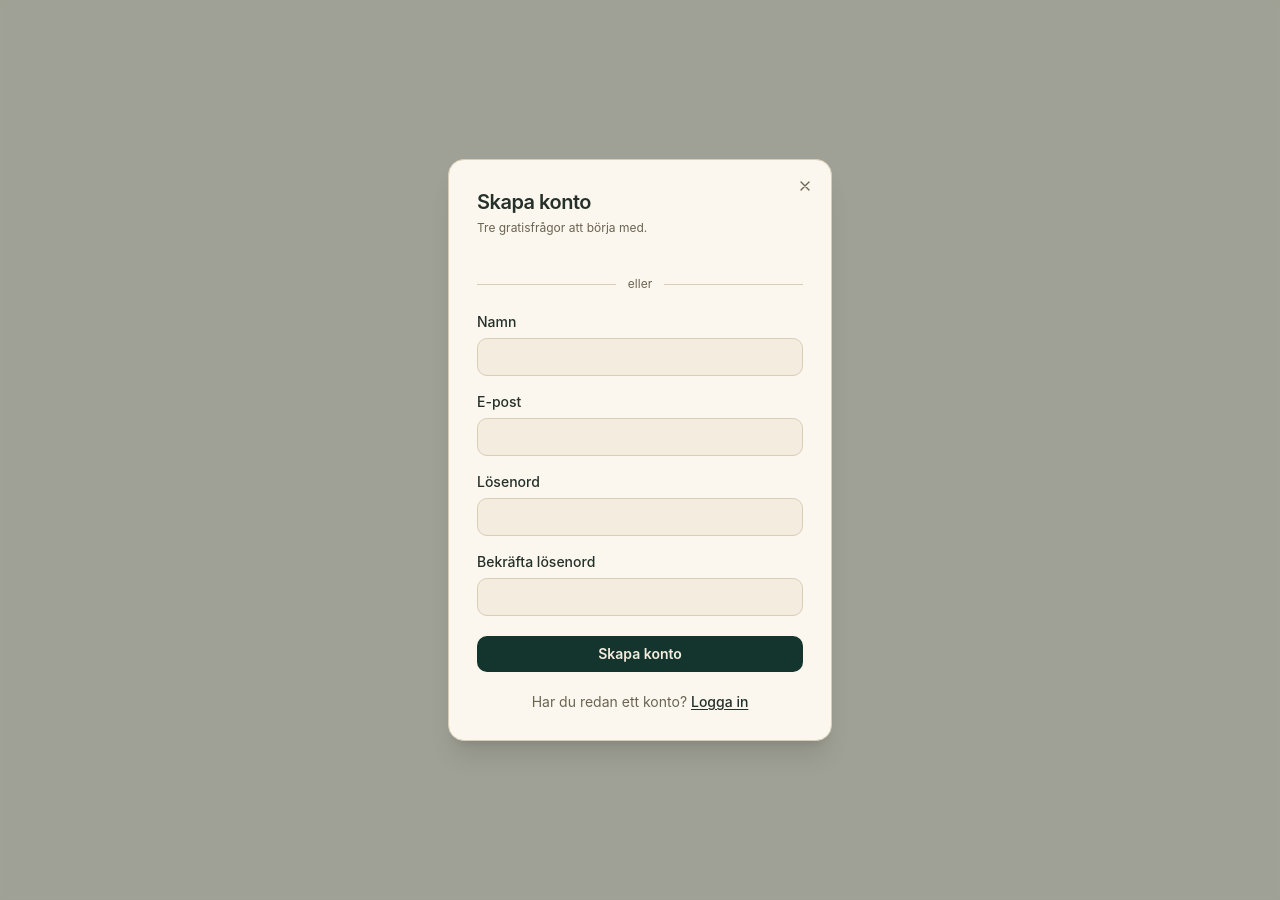
Test: AuthDialog — email verification › signup success shows the check-your-inbox panel and keeps the dialog open
Type "Anna" into the field labelled "Namn" at [640, 357], box [477, 338, 803, 376]
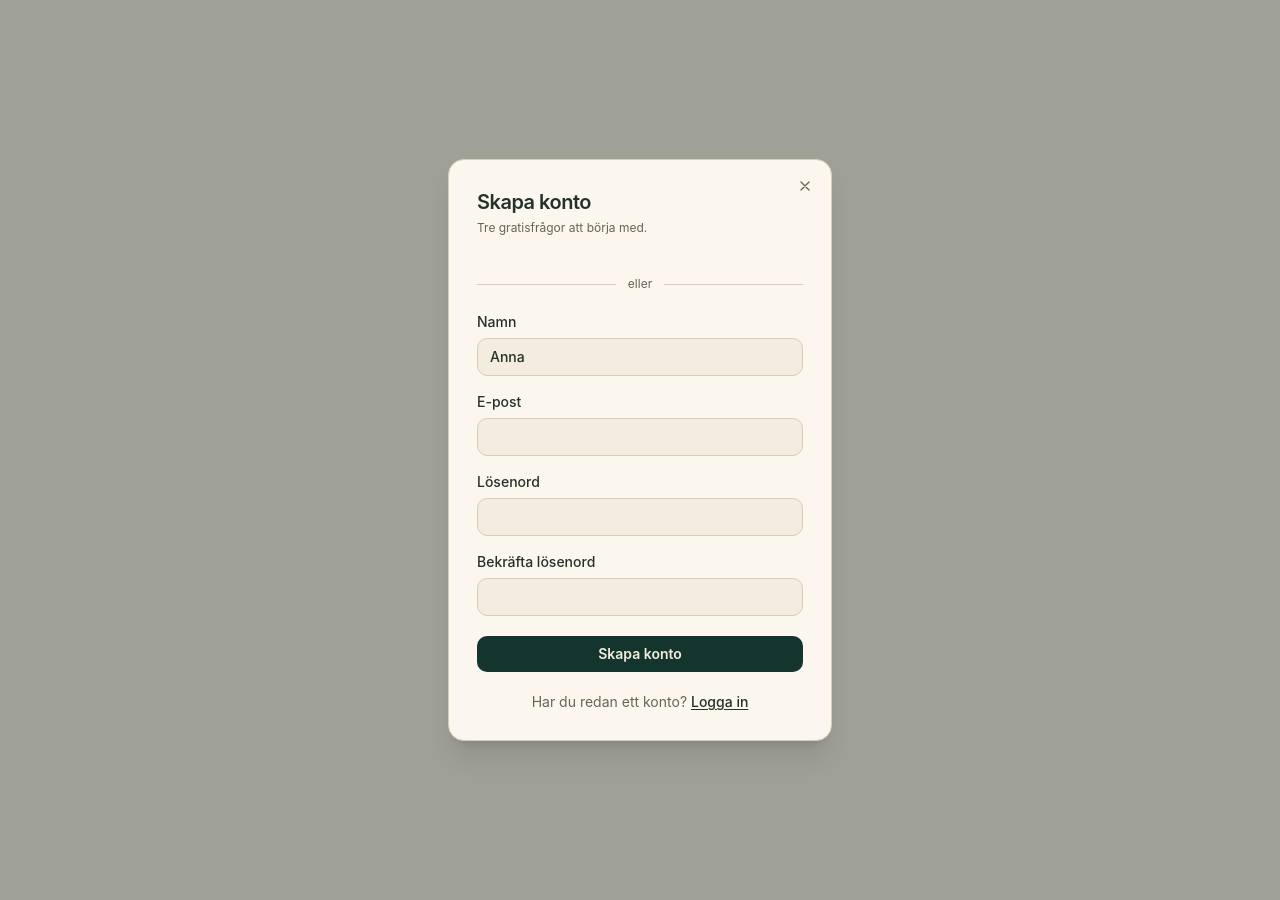
Type "anna@example.com" into the field labelled "E-post" at [640, 437], box [477, 418, 803, 456]
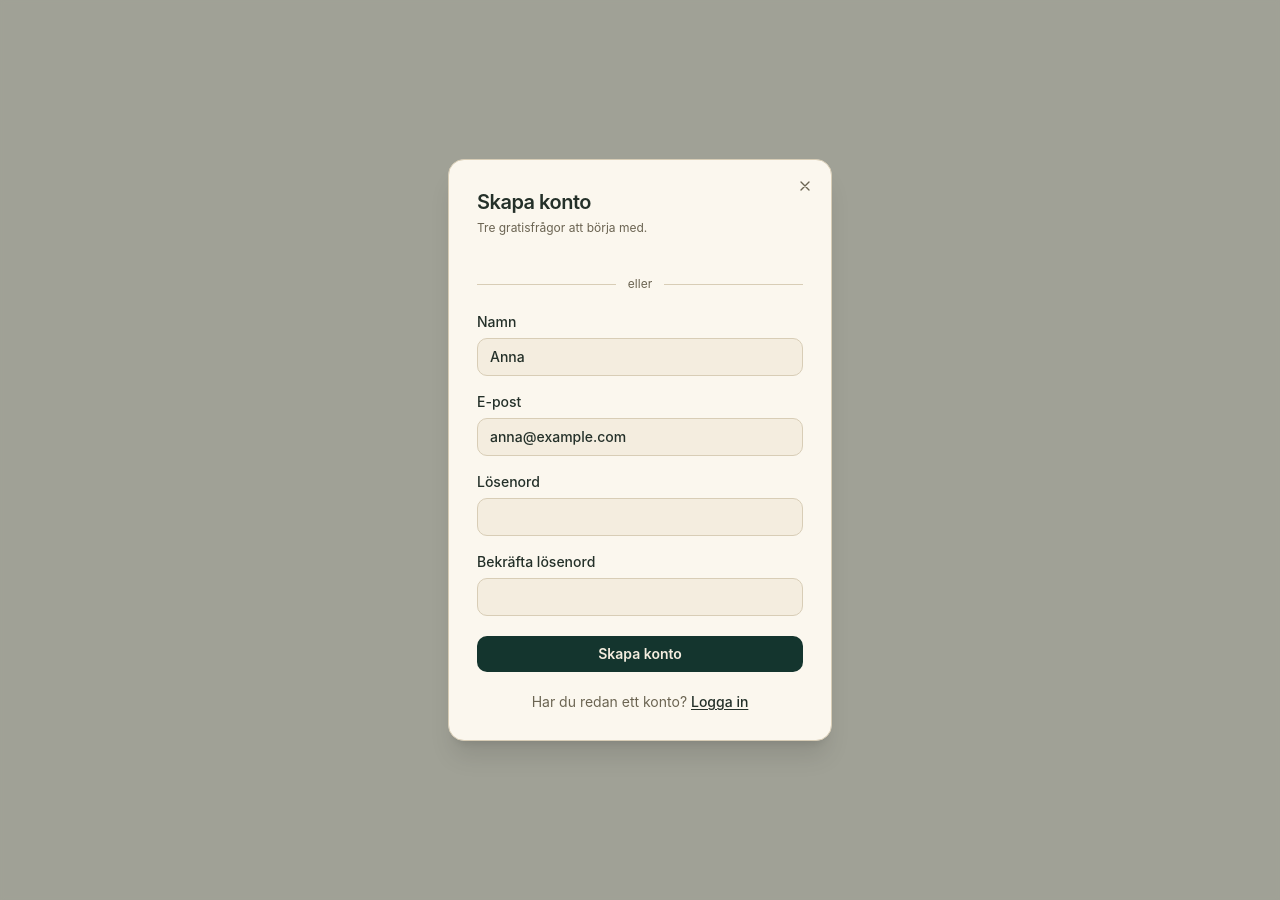
Type "password123" into the password field labelled "Lösenord" at [640, 517], box [477, 498, 803, 536]
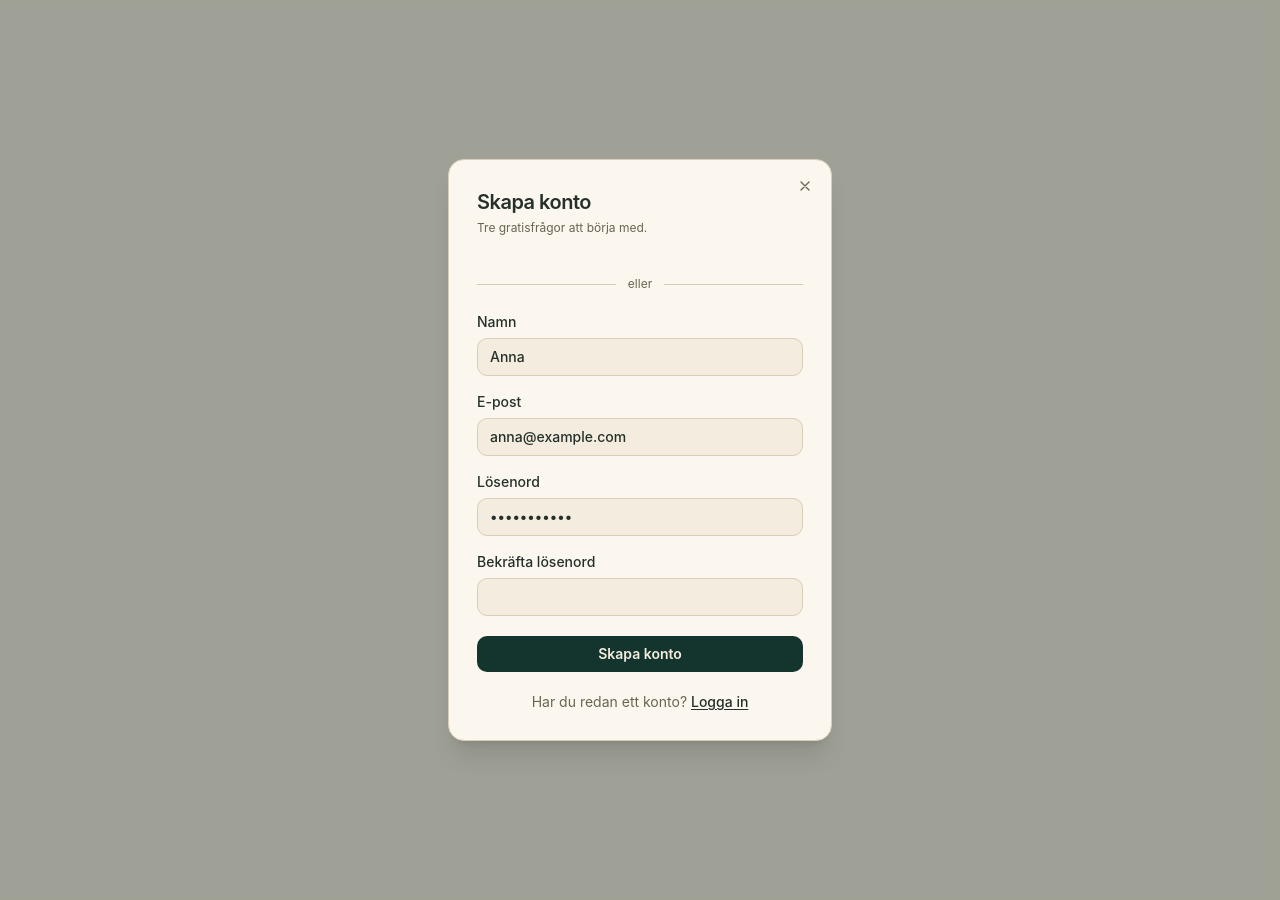
Type "password123" into the password field labelled "Bekräfta lösenord" at [640, 597], box [477, 578, 803, 616]
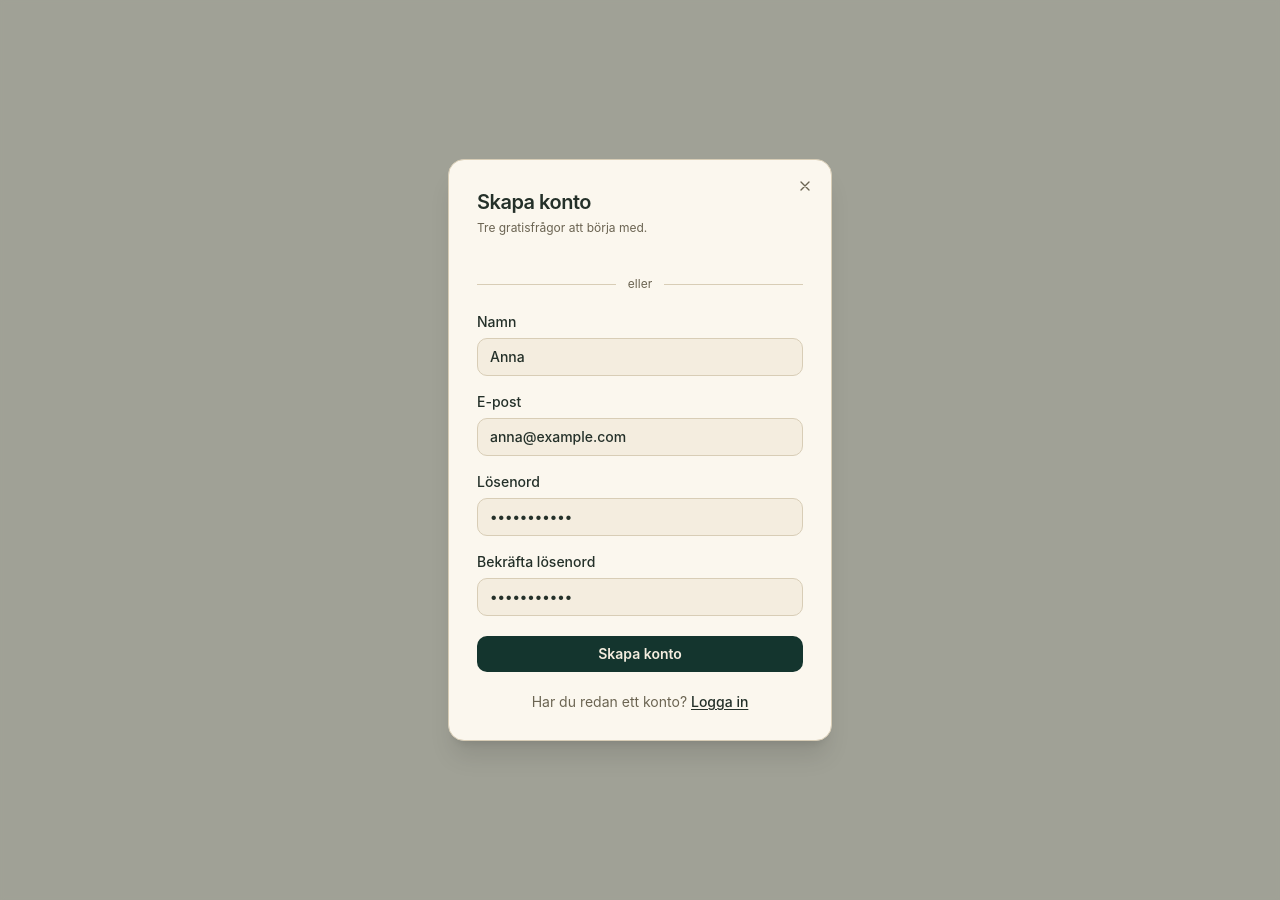
Submit the form from the button "Skapa konto", box [477, 636, 803, 672]
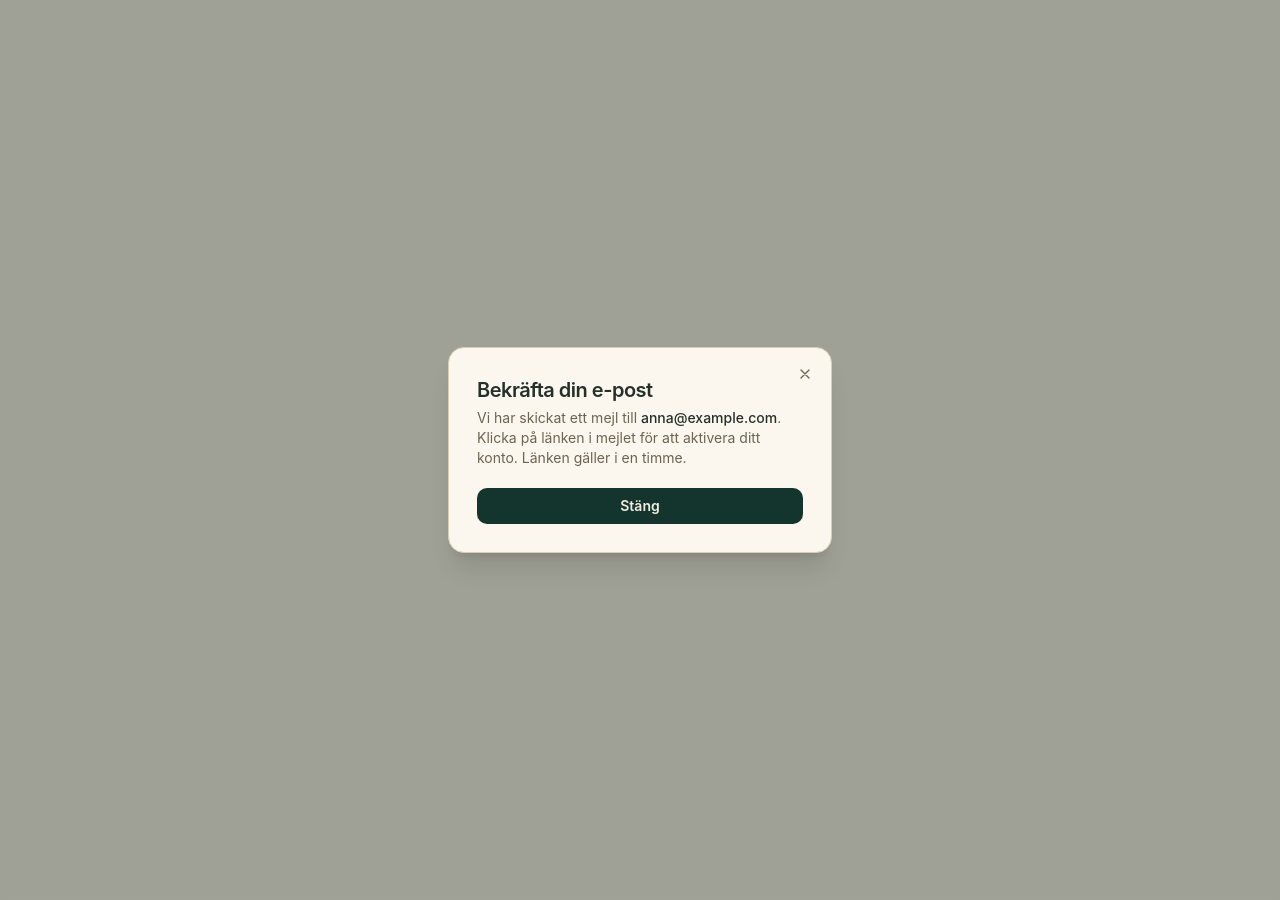
Now the text "anna@example.com" is shown, box [641, 409, 777, 426]
Now the heading "Bekräfta din e-post" is shown, box [477, 378, 653, 402]
